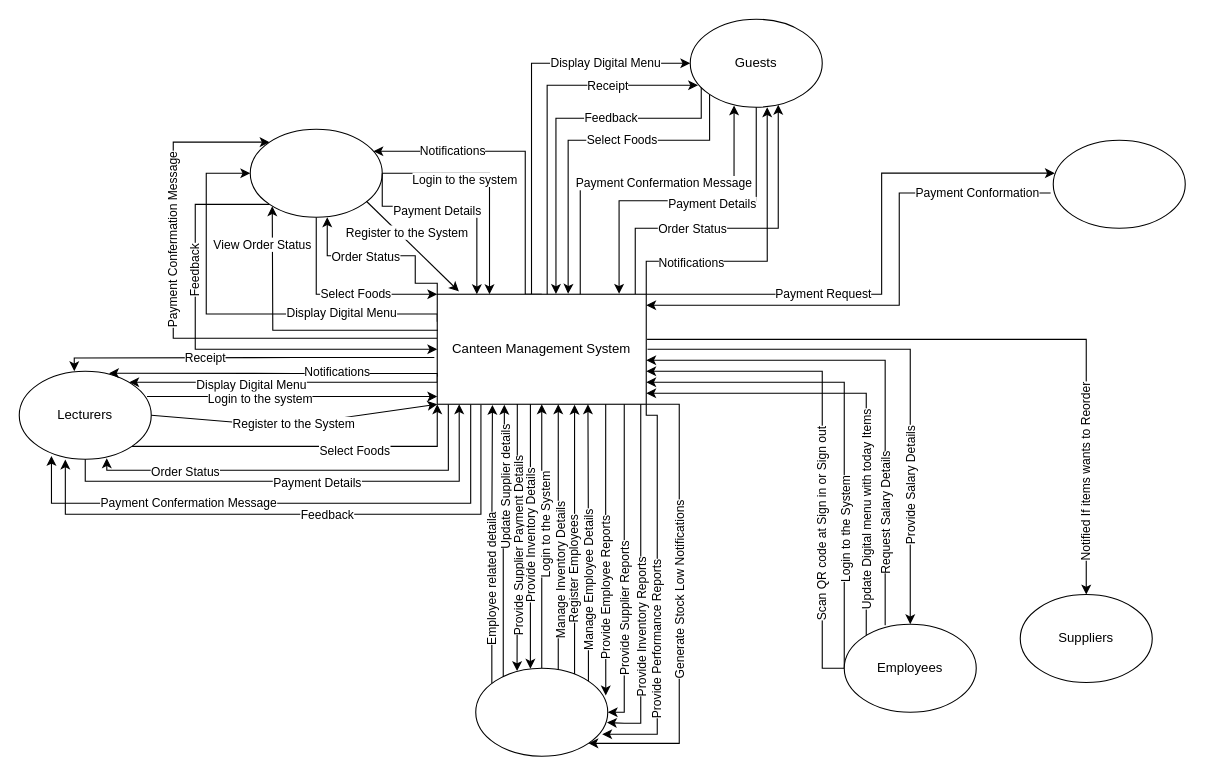
The diagram is 1205 pixels wide and 776 high, and some of its shapes have lost their labels. Here are the shapes that lost their labels. From the top down, the centre of each, then its label:
At [315,172]: "Students".
At [1118,183]: "Online Payment Gateway".
At [541,711]: "Admin (Canteen Management)".
